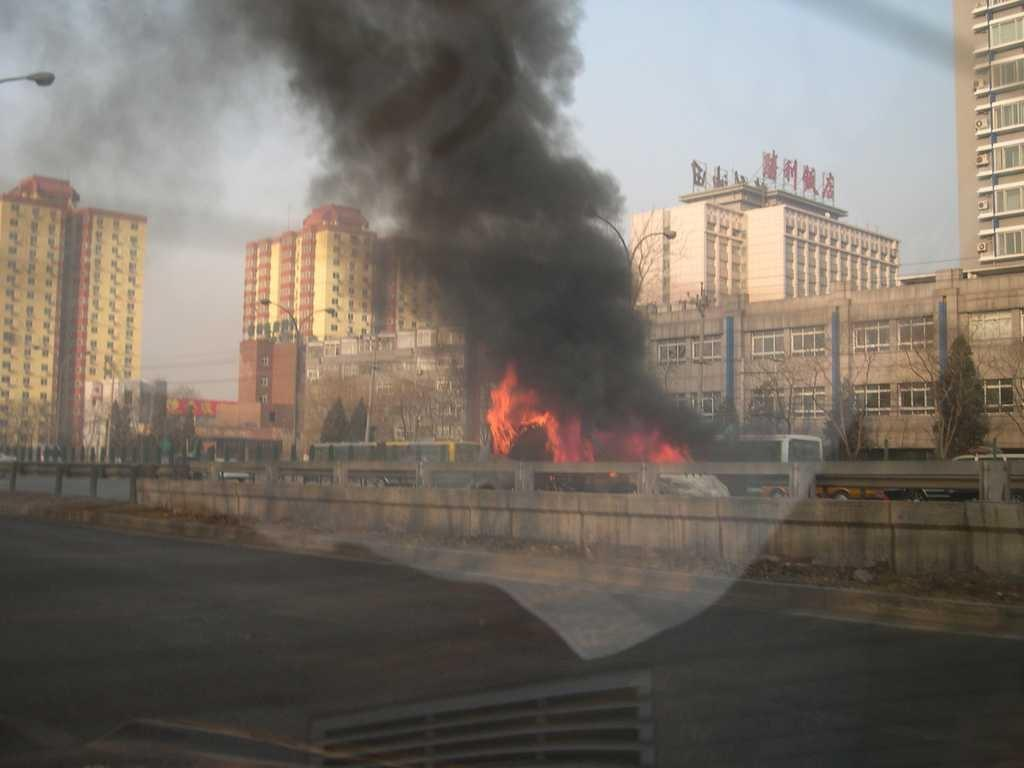fire: (485, 370, 683, 476)
smoke: (373, 124, 651, 357), (261, 1, 577, 114)
